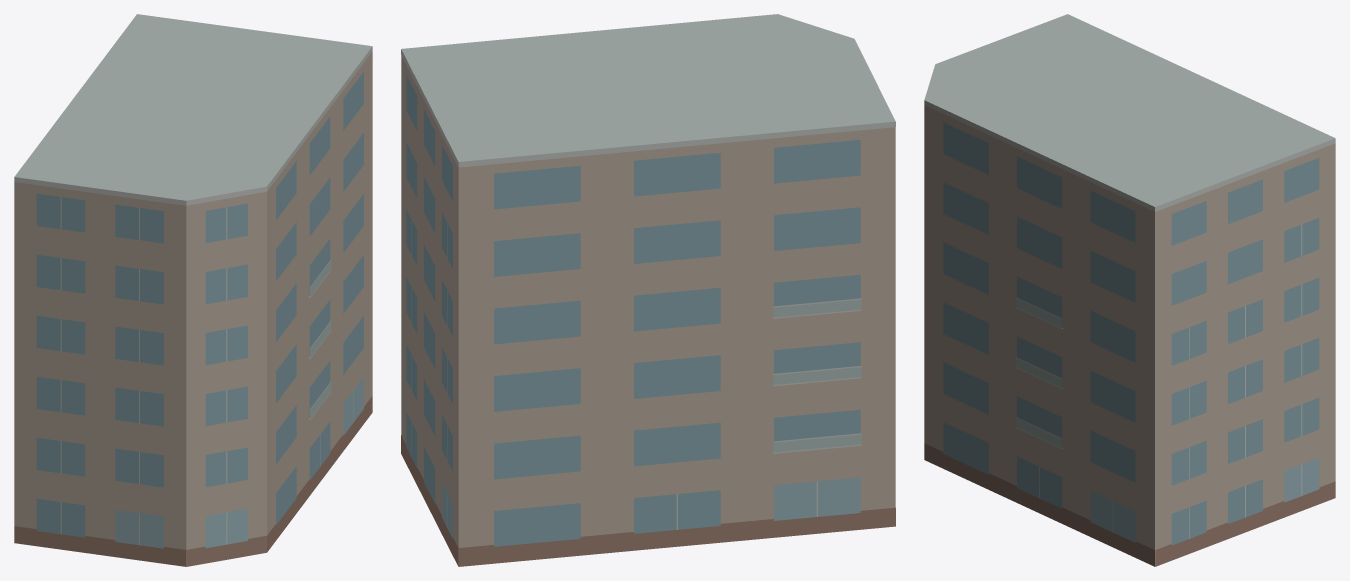
The model's file is survey-upis-32645823.glb.
3 views of the same model, side by side, from view 1: azimuth 30°, elevation 25°; view 2: azimuth 150°, elevation 25°; view 3: azimuth 270°, elevation 25° (orthographic). The views are drawn at different scales.
Parts seen in each view (by area): view 1: survey-upis-32645823.tmp; view 2: survey-upis-32645823.tmp; view 3: survey-upis-32645823.tmp.
Part boxes in pixels (x1,y1,x2,y2): survey-upis-32645823.tmp: (14, 14, 372, 566); survey-upis-32645823.tmp: (401, 14, 895, 566); survey-upis-32645823.tmp: (924, 14, 1335, 566).
Bounding box in the file's own units: 20.51 × 17.8 × 18.45.
